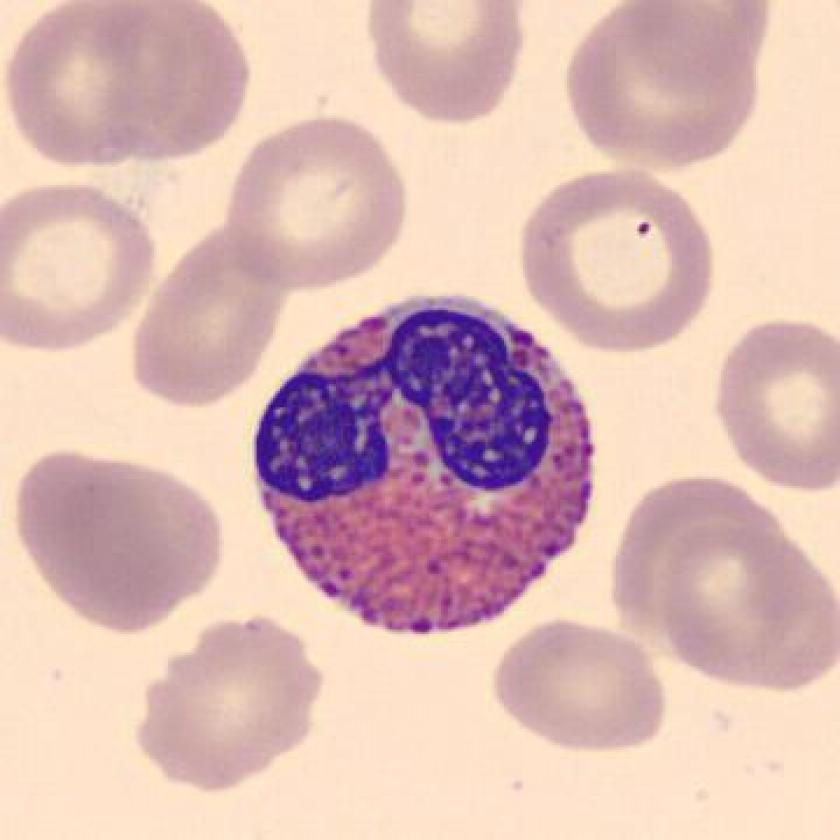eosinophil: (239, 284, 617, 652)
